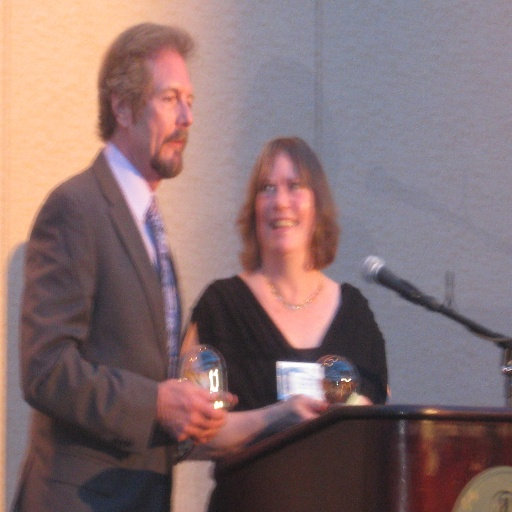hand: (190, 390, 234, 446), (284, 388, 328, 429)
